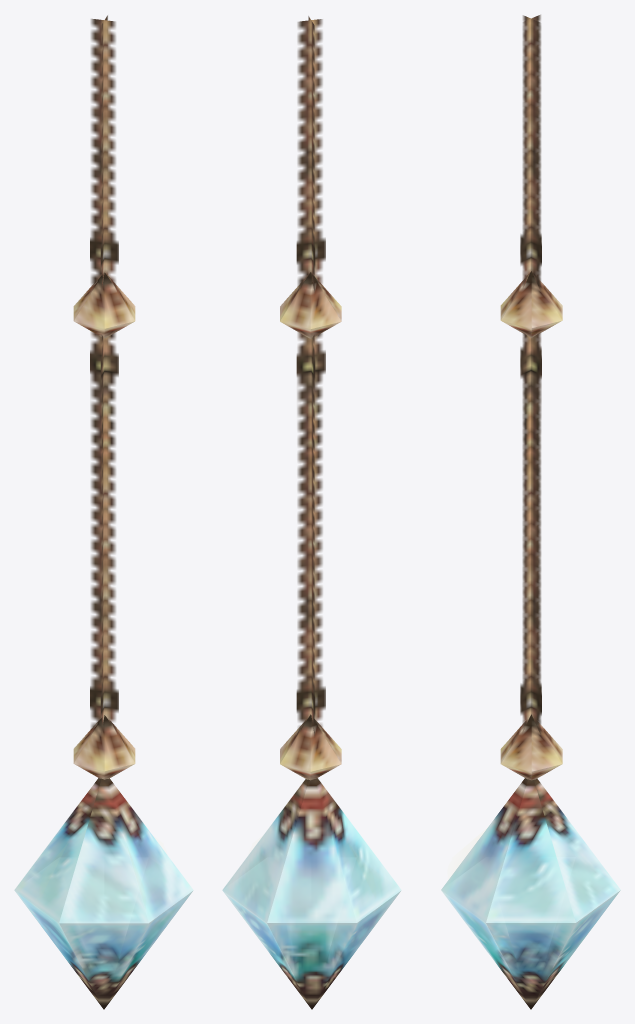
The picture shows the model from 3 angles, left to right: view 1: azimuth 30°, elevation 25°; view 2: azimuth 150°, elevation 25°; view 3: azimuth 270°, elevation 25°; orthographic projection.
Visible parts, largest first — view 1: light_s_03; view 2: light_s_03; view 3: light_s_03.
Part boxes in pixels (x1=…): light_s_03: x1=14, y1=15, x2=193, y2=1009; light_s_03: x1=222, y1=16, x2=401, y2=1009; light_s_03: x1=441, y1=15, x2=620, y2=1009.
Size of the model in its own units: 0.013 by 0.0773 by 0.0135.
1 material, 1 textured.
